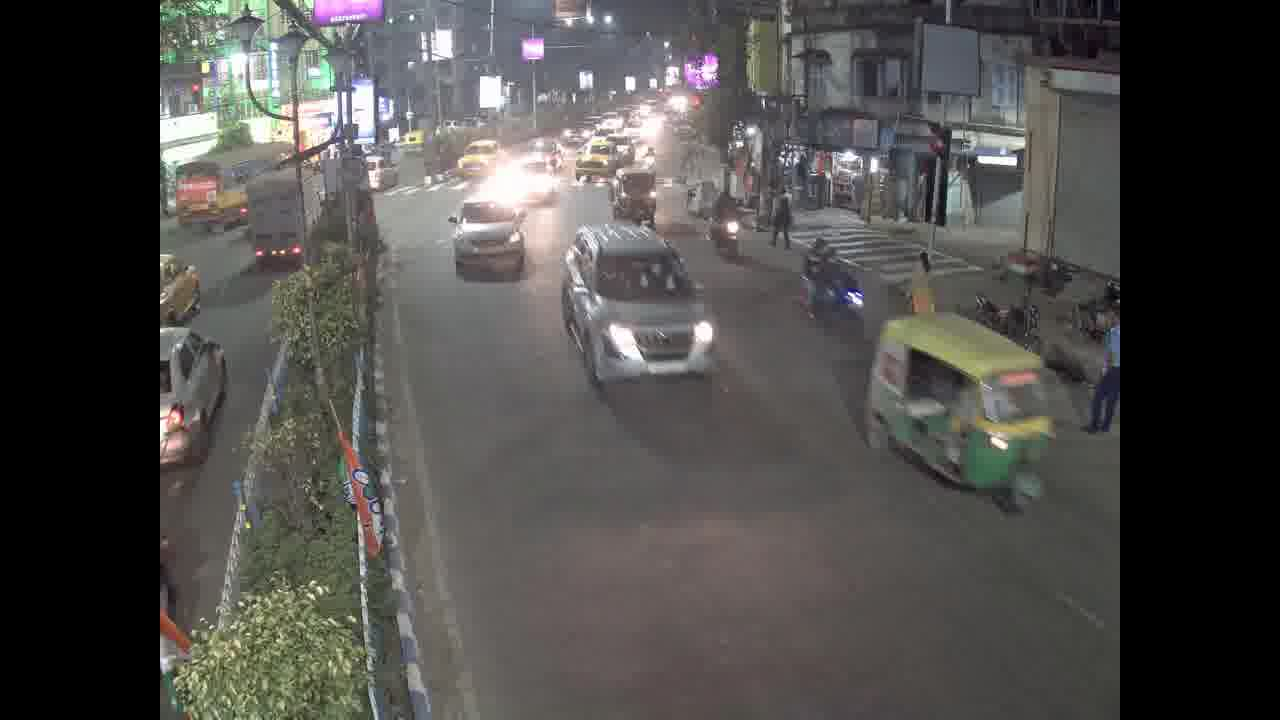auto-rickshaw: (880, 316, 1045, 514), (617, 173, 659, 221)
bike: (970, 272, 1040, 352), (803, 263, 854, 343), (705, 208, 743, 261)
car: (568, 231, 721, 378), (459, 209, 519, 279), (510, 156, 560, 203), (458, 137, 497, 179)
person: (902, 241, 947, 321), (804, 234, 841, 297), (769, 185, 792, 250)
